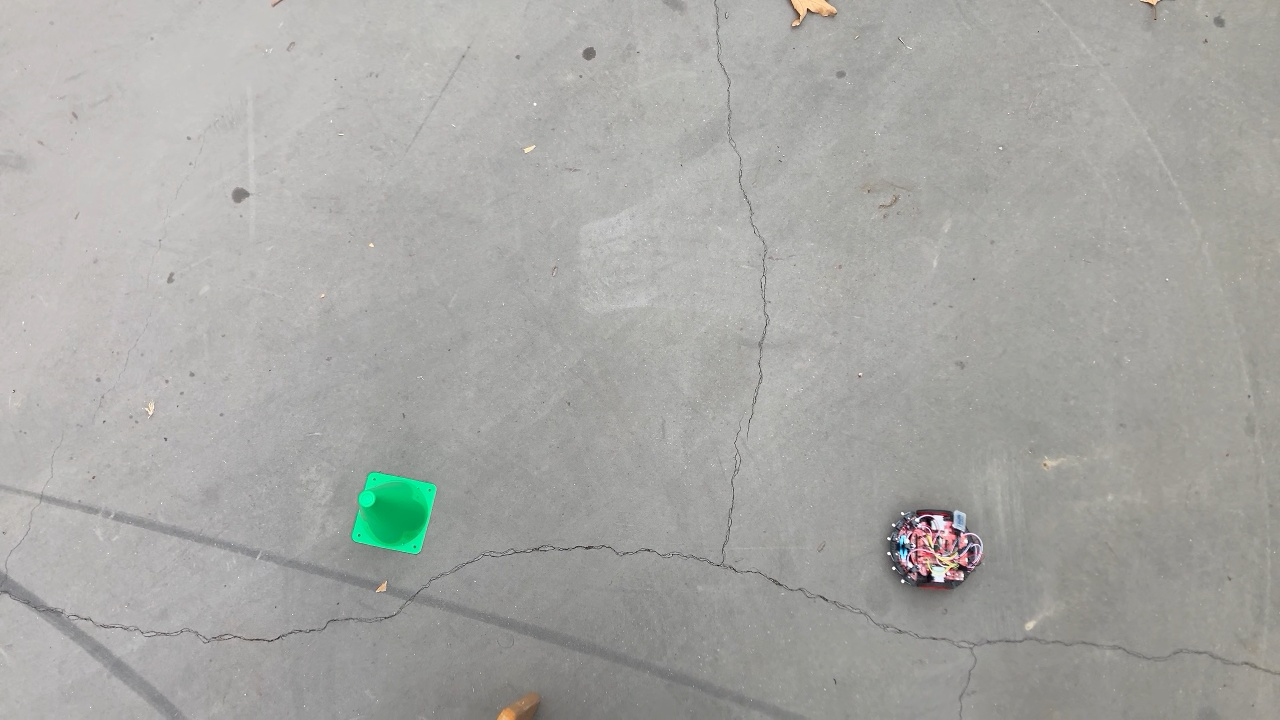green_cone: (349, 468, 438, 557)
robot: (886, 505, 988, 596)
